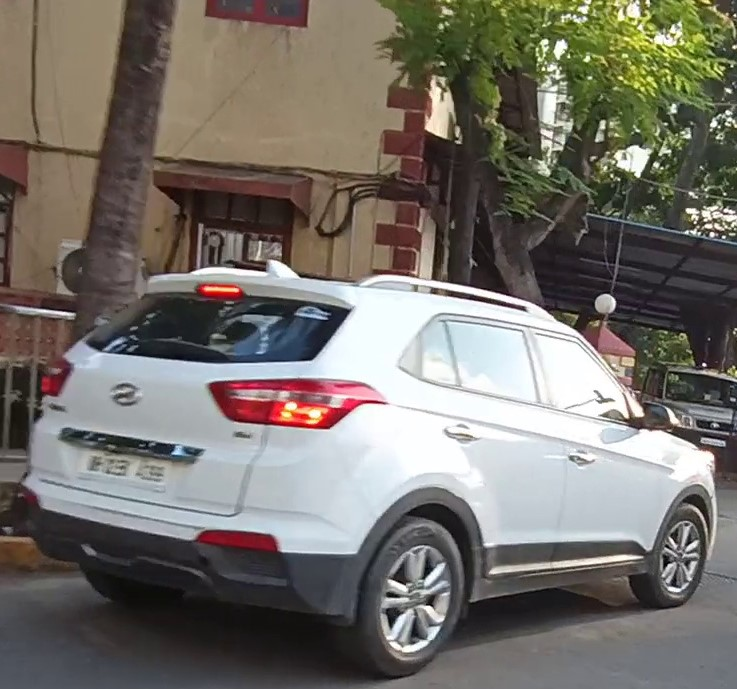MH02EK4399: (81, 449, 175, 489)
